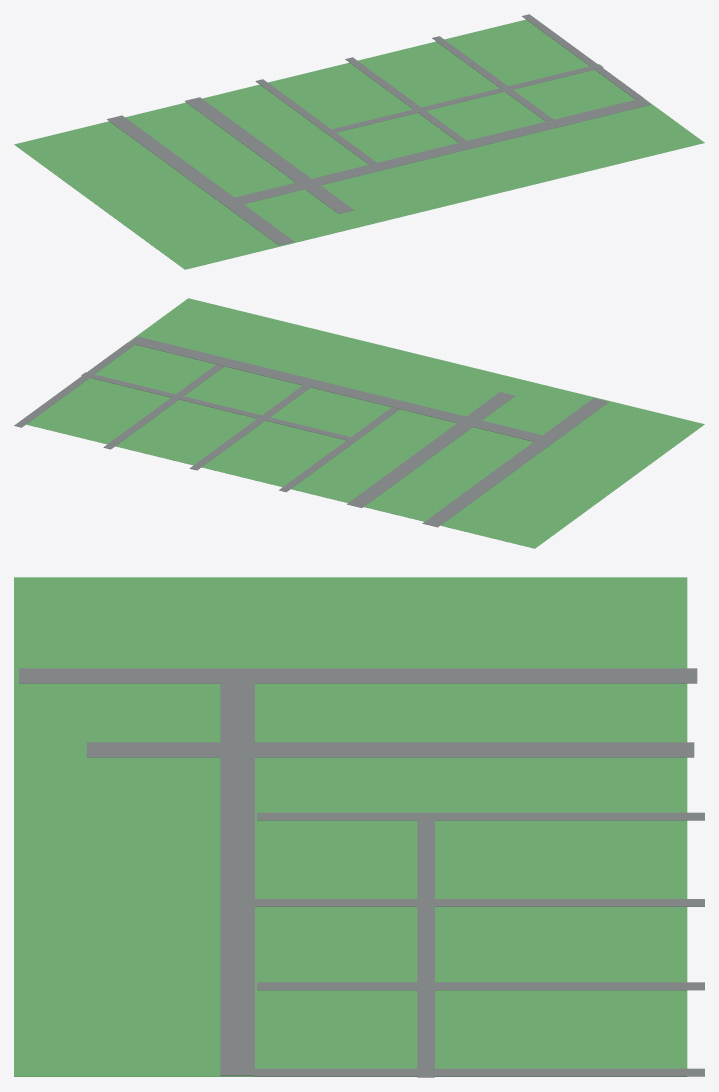
File: Dazzling Kup-Krunk.glb
The picture shows the model from 3 angles, top to bottom: view 1: azimuth 30°, elevation 25°; view 2: azimuth 150°, elevation 25°; view 3: azimuth 270°, elevation 25°; orthographic projection. The views are drawn at different scales.
Parts seen in each view (by area): view 1: Mesh_Mesh_head_geo.001_lambert2SG.001; view 2: Mesh_Mesh_head_geo.001_lambert2SG.001; view 3: Mesh_Mesh_head_geo.001_lambert2SG.001.
Boxes of the visible parts, bbox=[...] form: Mesh_Mesh_head_geo.001_lambert2SG.001: bbox=[14, 14, 704, 269]; Mesh_Mesh_head_geo.001_lambert2SG.001: bbox=[14, 298, 704, 548]; Mesh_Mesh_head_geo.001_lambert2SG.001: bbox=[14, 577, 704, 1077].
Size of the model in its own units: 0.473 by 0.0003 by 0.276.
